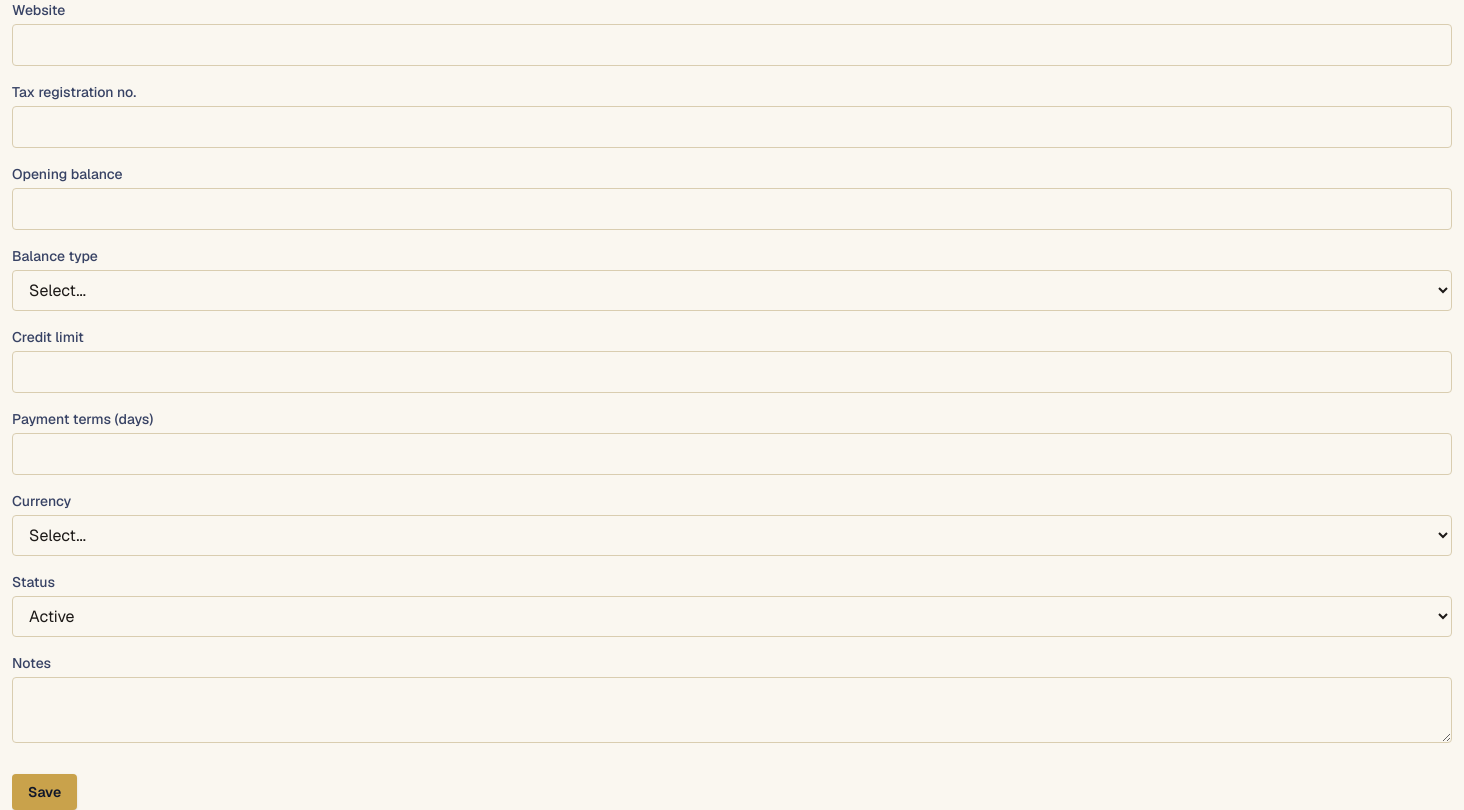
Test: CustomerForm (create mode) › blocks submit and shows an inline error when customer_name is missing
(page scrolled)
Click the button "Save": (45, 792) x1=12 y1=774 x2=77 y2=809
(page scrolled)
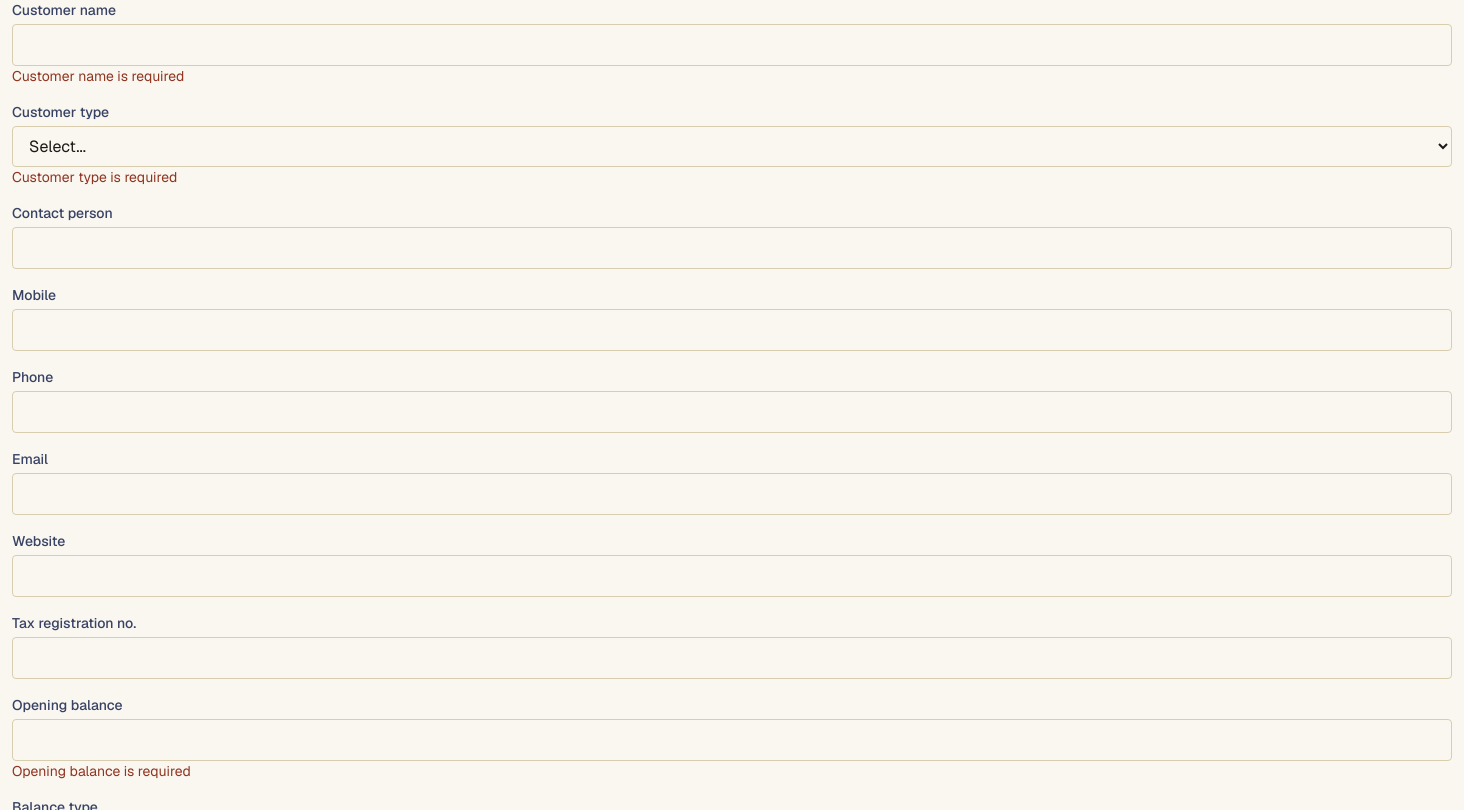
Expected: the text "Customer name is required" is shown, x1=12 y1=67 x2=184 y2=85
